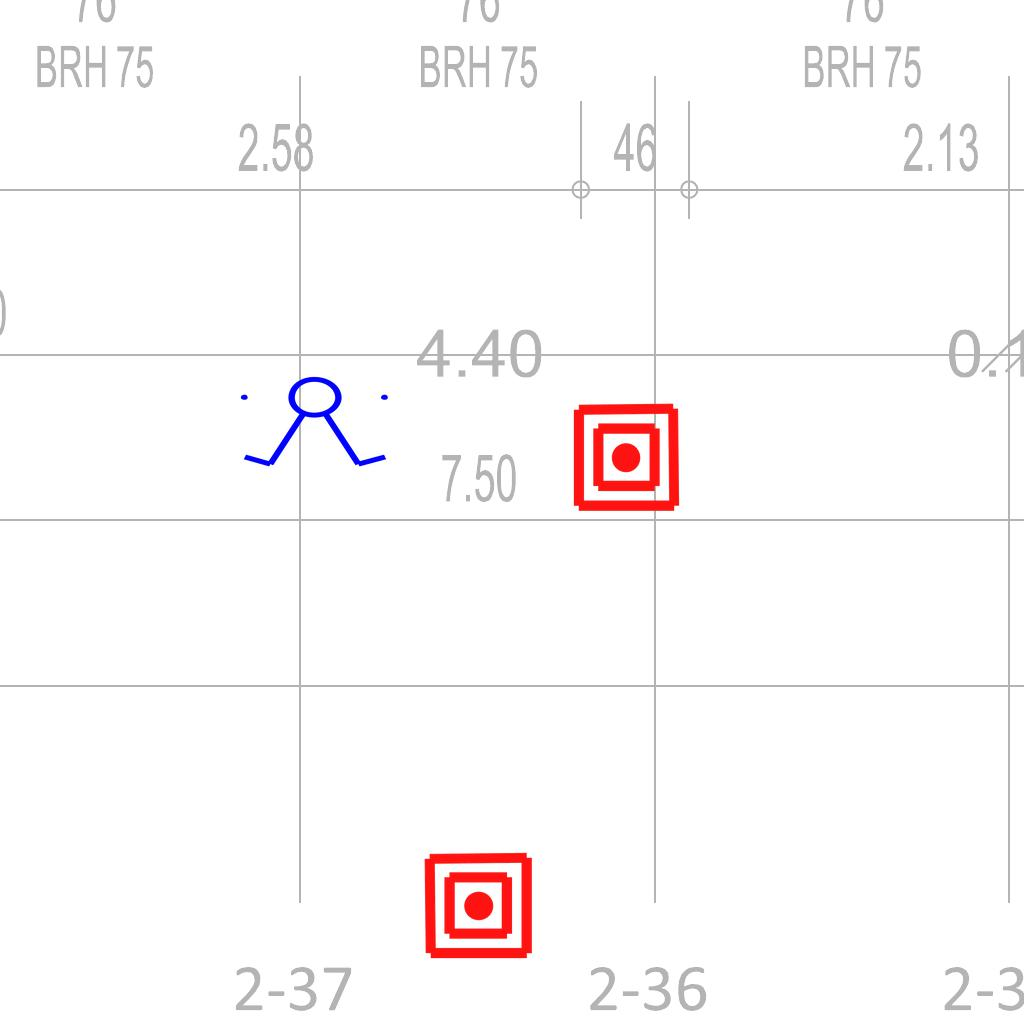NAM-Nichtautomatischer_Melder: (422, 849, 535, 962), (570, 401, 683, 514)
Serienschalter: (232, 375, 400, 471)
